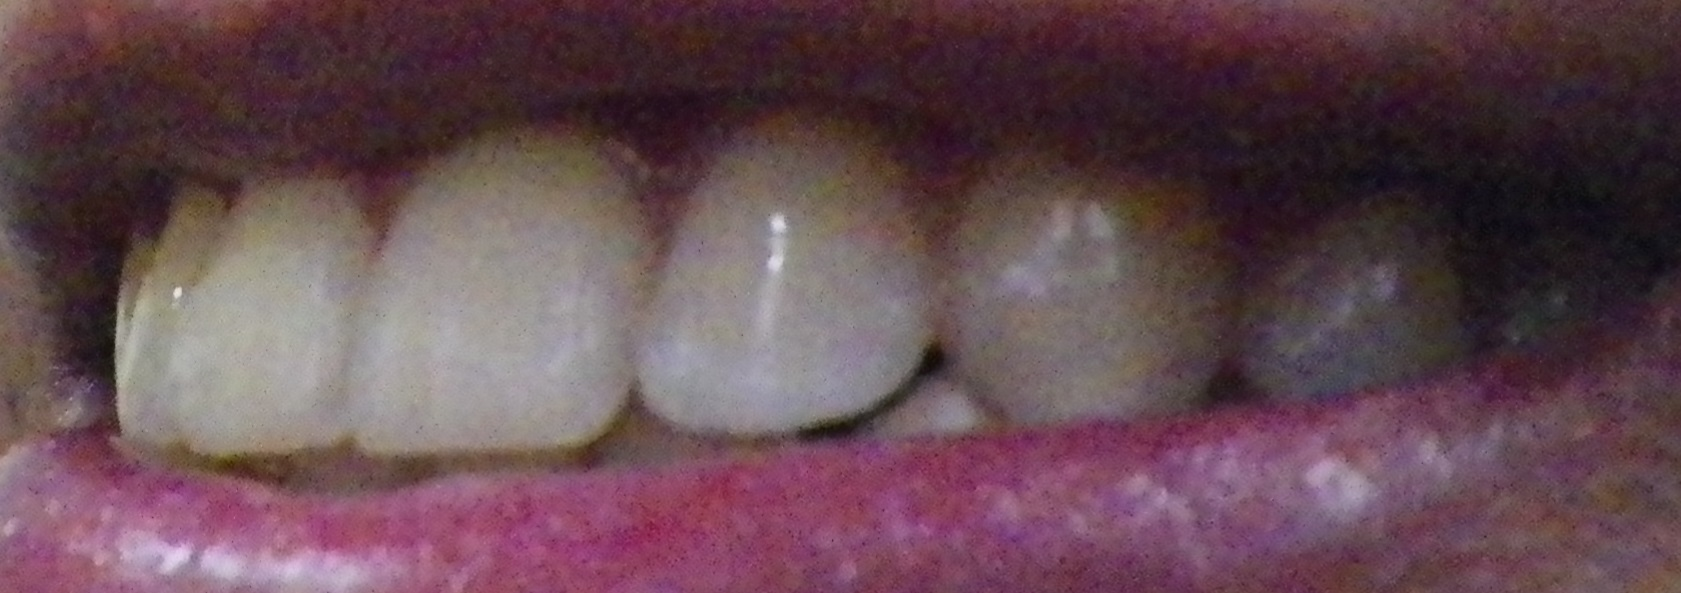boca: (68, 159, 1538, 476)
